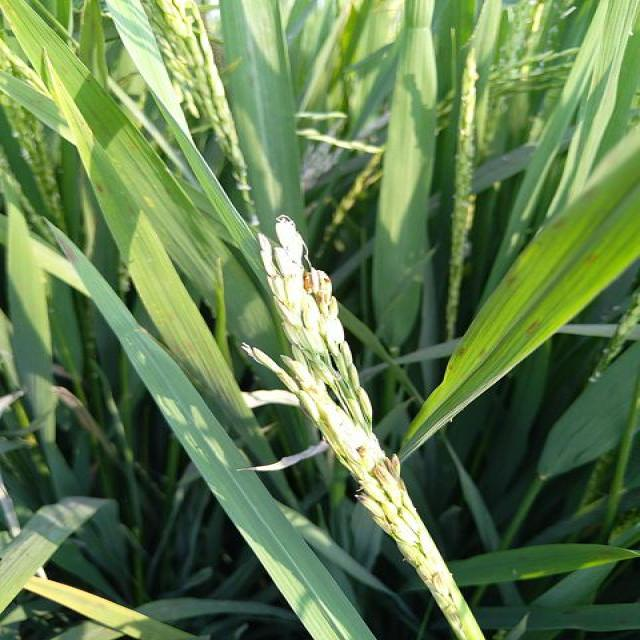Panicle Blight: (372, 454, 408, 498), (304, 267, 335, 309), (353, 490, 385, 519), (351, 440, 369, 466), (432, 572, 447, 594)
